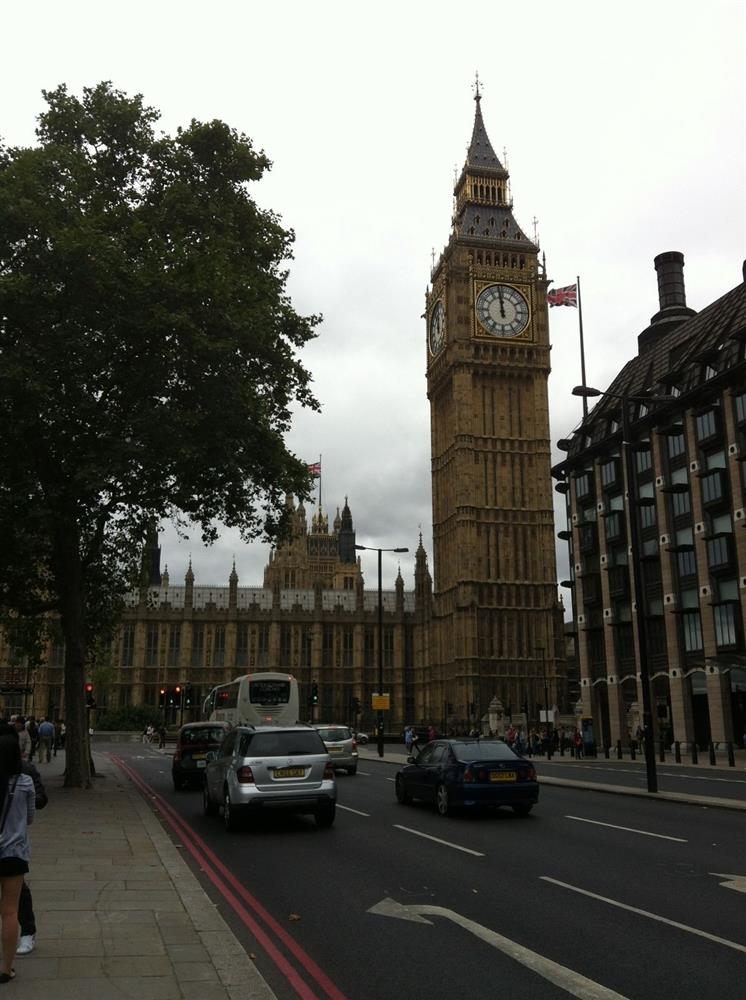Elizabeth_Tower: (414, 87, 569, 729)
